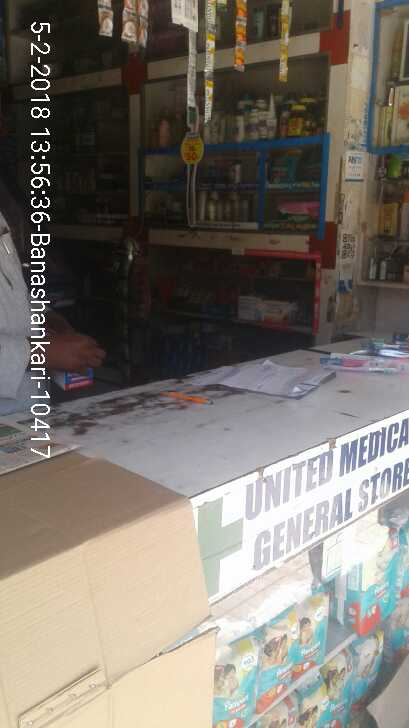pharmacy: (267, 149, 298, 182), (297, 147, 320, 183)
